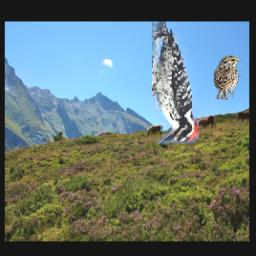Sparrow: (213, 55, 242, 100)
Woodpecker: (153, 21, 200, 143)
